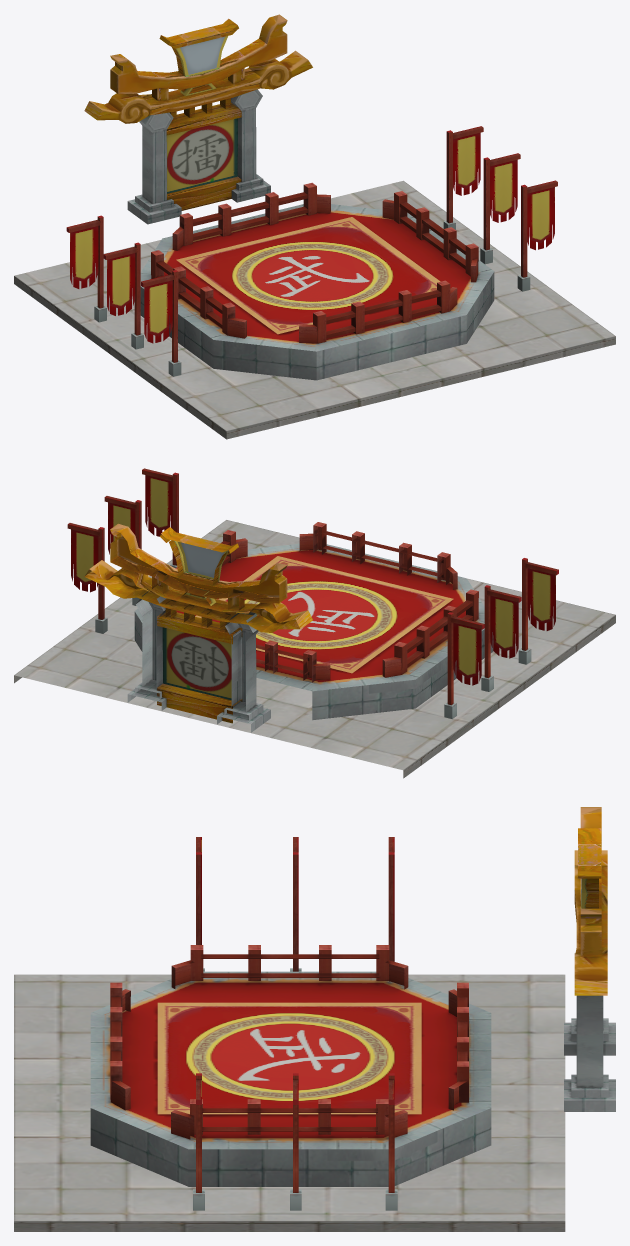
File: 3k_map_stadium.FBX
3 renders of one model, top to bottom at view 1: azimuth 30°, elevation 25°; view 2: azimuth 150°, elevation 25°; view 3: azimuth 270°, elevation 25°, orthographic. The views are drawn at different scales.
Parts seen in each view (by area): view 1: 3k_map_stadium, 3k_map_pedestal; view 2: 3k_map_stadium, 3k_map_pedestal; view 3: 3k_map_stadium, 3k_map_pedestal.
Part boxes in pixels (x1=…): 3k_map_stadium: x1=66, y1=14, x2=557, y2=380; 3k_map_pedestal: x1=14, y1=180, x2=615, y2=439; 3k_map_stadium: x1=67, y1=468, x2=558, y2=732; 3k_map_pedestal: x1=14, y1=520, x2=615, y2=778; 3k_map_stadium: x1=90, y1=807, x2=615, y2=1210; 3k_map_pedestal: x1=14, y1=974, x2=565, y2=1231.
Bounding box in the file's own units: 2847 × 1309 × 2759.
